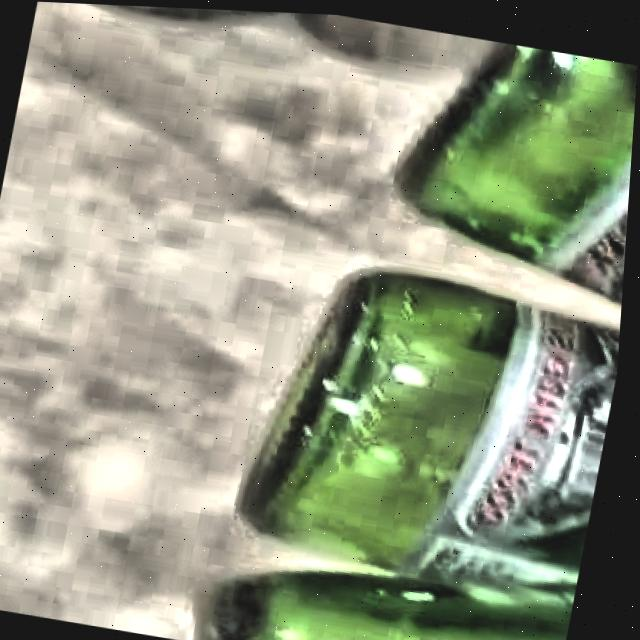glass: (208, 268, 624, 640)
